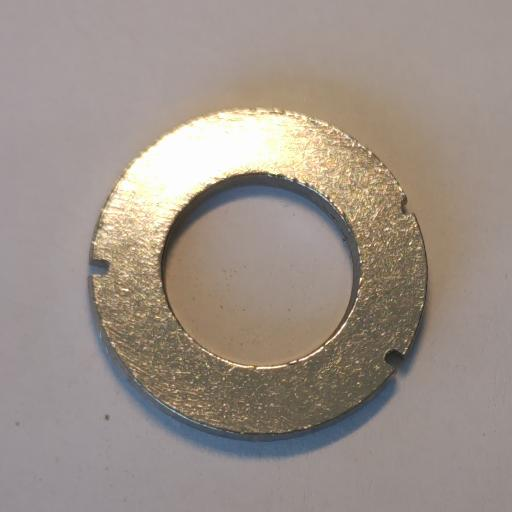burr: (383, 348, 405, 370), (89, 258, 111, 278), (400, 196, 415, 215)
